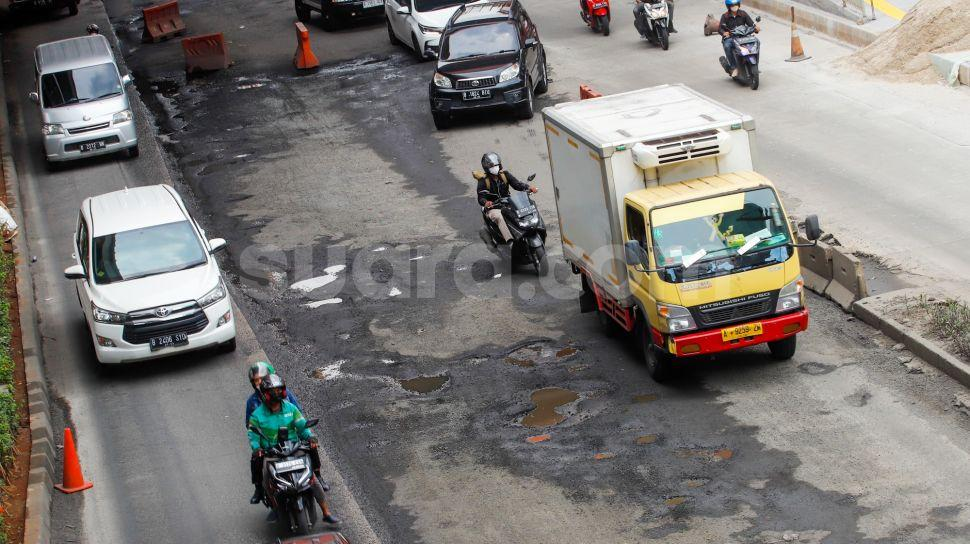Pothole: (476, 322, 762, 517), (137, 77, 280, 277), (289, 319, 523, 401), (262, 244, 511, 316), (312, 59, 421, 85)
